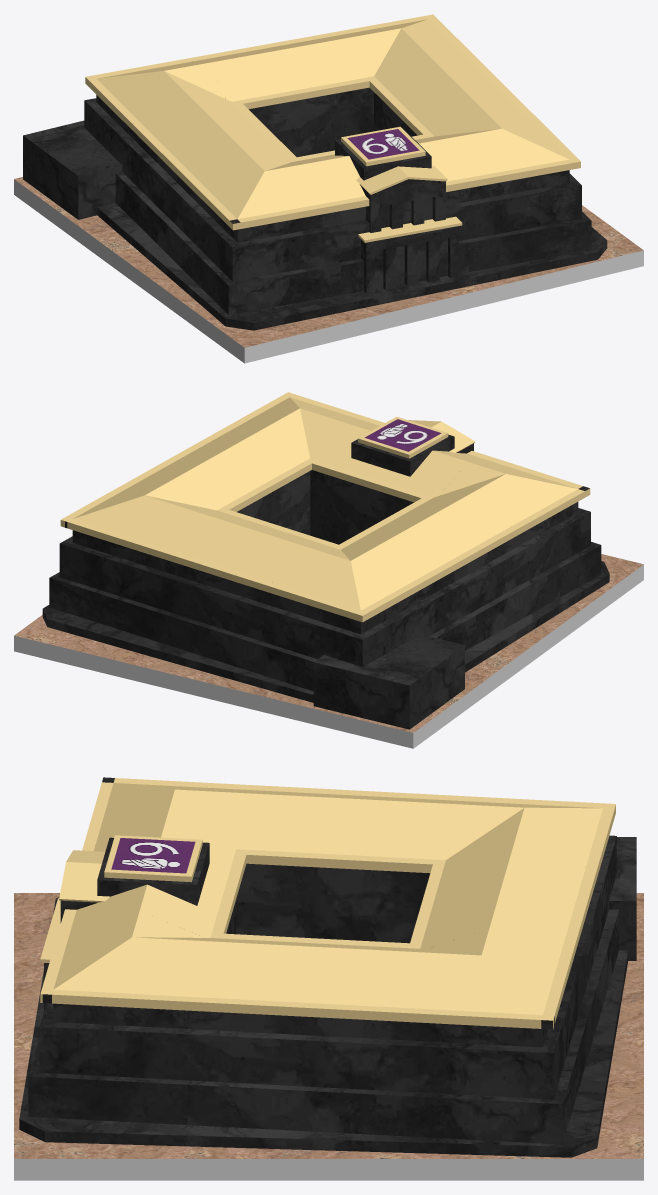
Rendered from buildingGranInsulaCuadrada.glb.
3 views of the same model, one above another, from view 1: azimuth 30°, elevation 25°; view 2: azimuth 150°, elevation 25°; view 3: azimuth 270°, elevation 25° (orthographic). The views are drawn at different scales.
Parts seen in each view (by area): view 1: GranInsulaC; view 2: GranInsulaC; view 3: GranInsulaC.
Boxes of the visible parts, <box> form: GranInsulaC: <box>14,14,643,363</box>; GranInsulaC: <box>14,392,643,748</box>; GranInsulaC: <box>14,777,643,1180</box>.
Bounding box in the file's own units: 5 × 1.62 × 5.
Materials: 5 (3 with a texture image).
